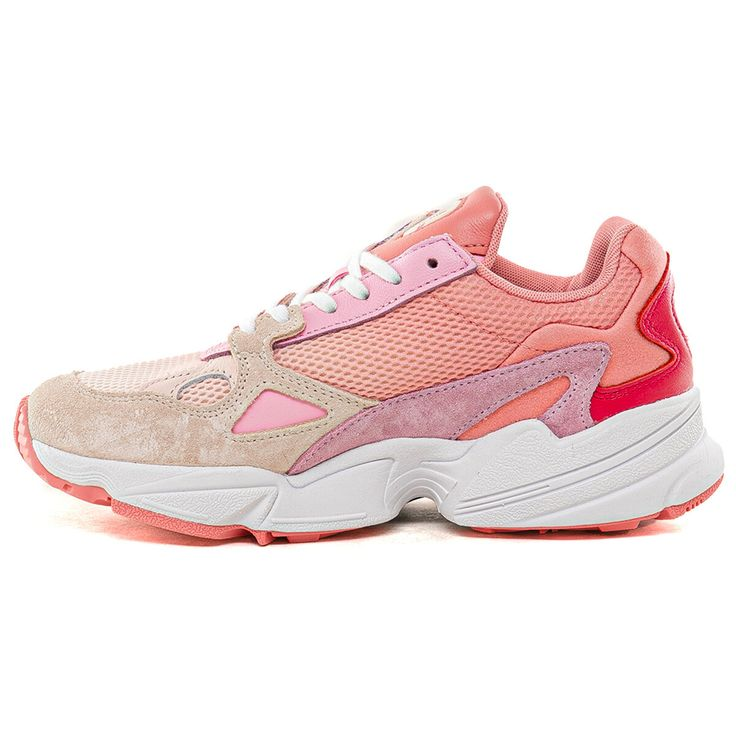gamuza: (28, 261, 694, 476)
